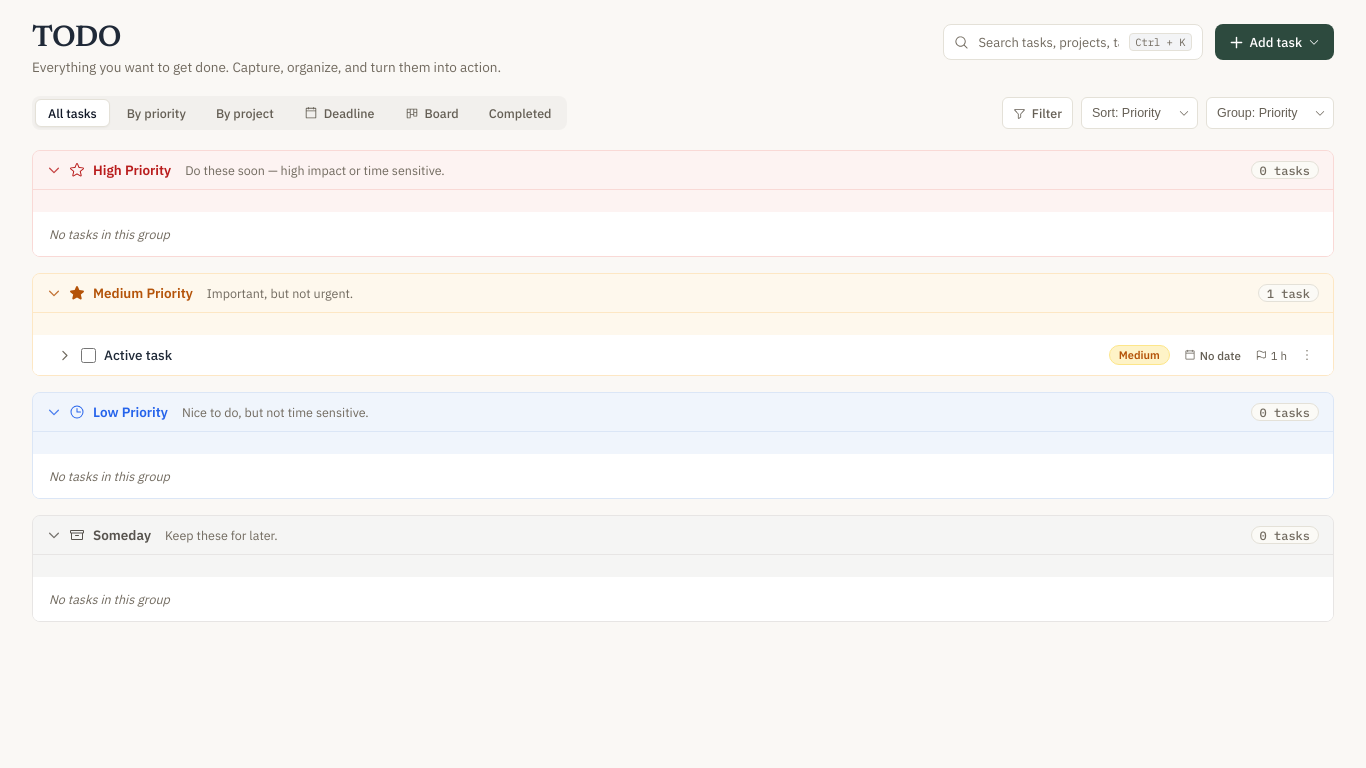
Test case: task planning release flows › TodoView › separates completed tasks from the active task groups
Expected: the text "Active task" is shown, [104,346,172,364]
Expected: the text "Done task" is not shown
Click the tab "Completed": (520, 113) [476,99,564,127]
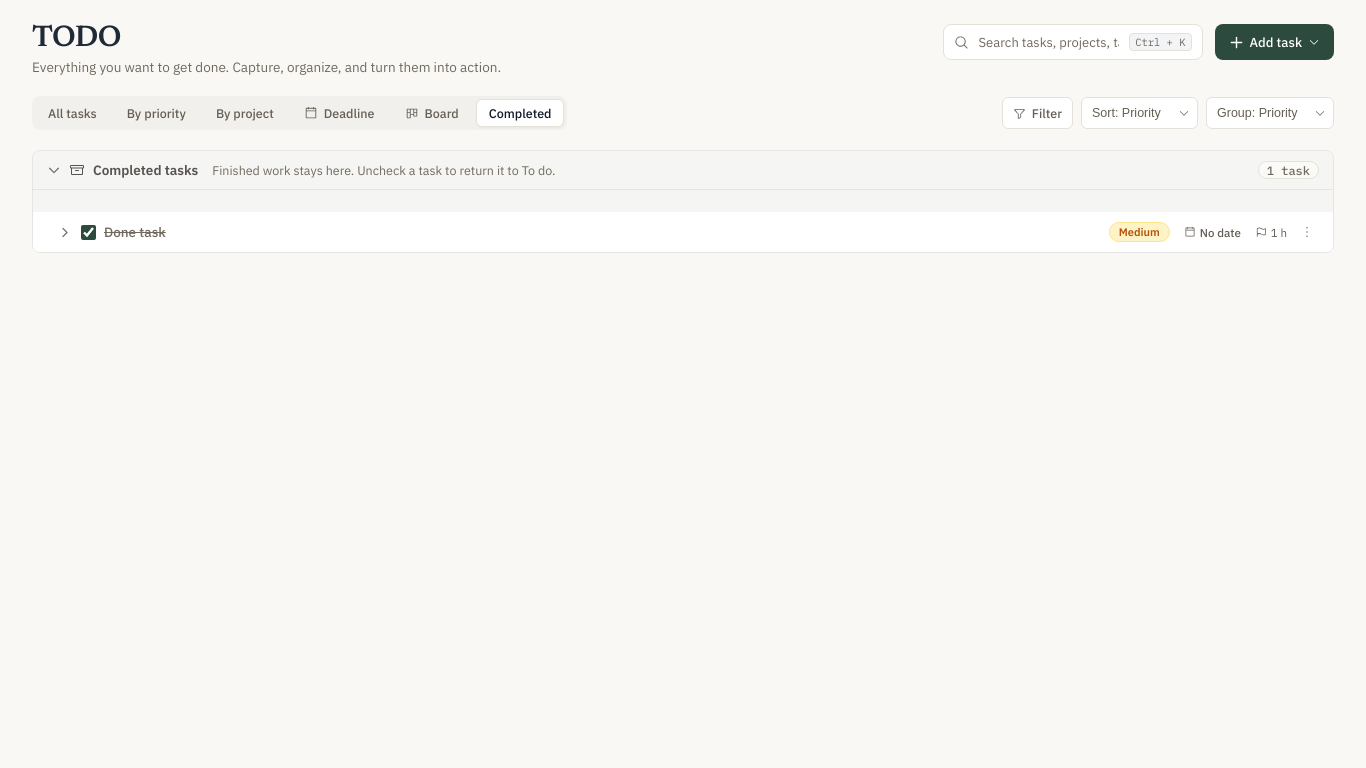
Result: the text "Done task" is shown at [104,223,166,241]
Result: the button "Active task" is gone
Result: the checkbox named "Mark incomplete: Done task" is shown at [81,224,96,240]
